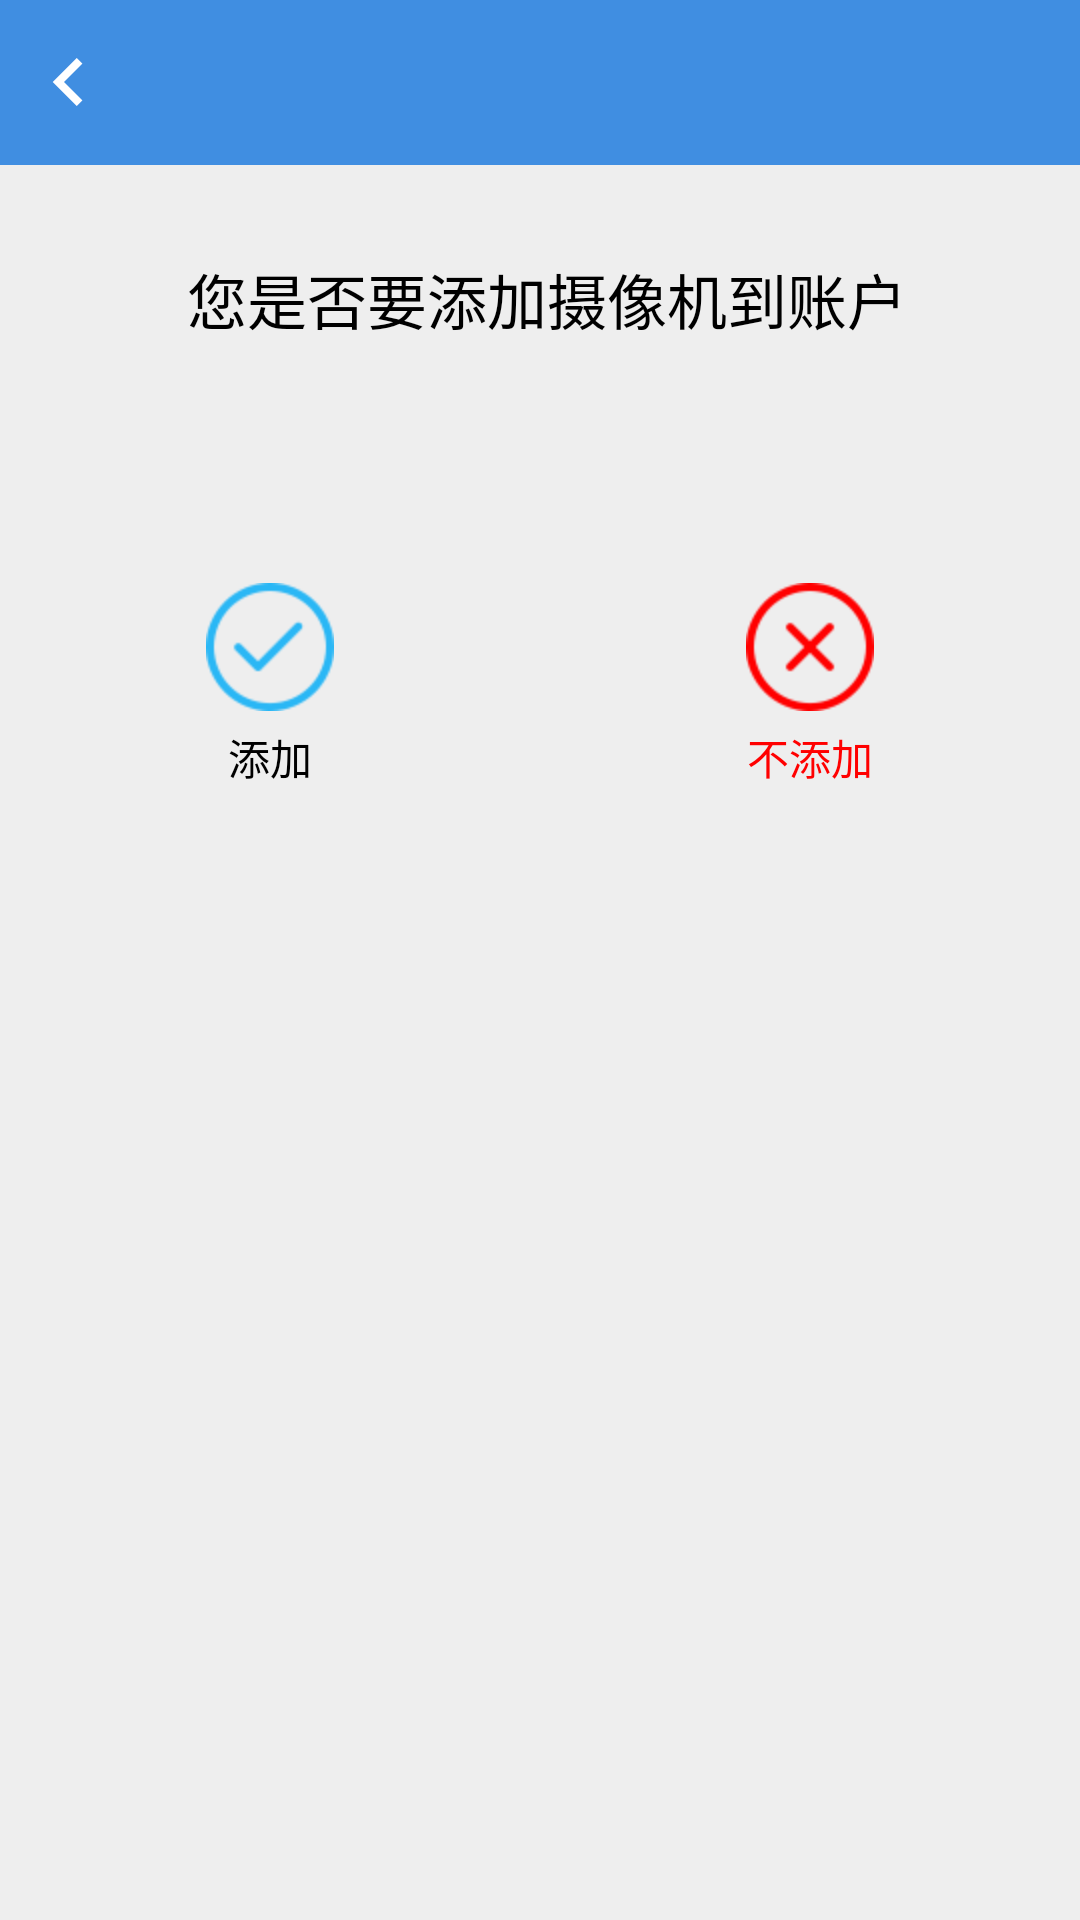

Screen size 1080 × 1920. Icon name, then its center in pixels as (x,y):
back: (68,82)
send wifi finish: (270,647)
